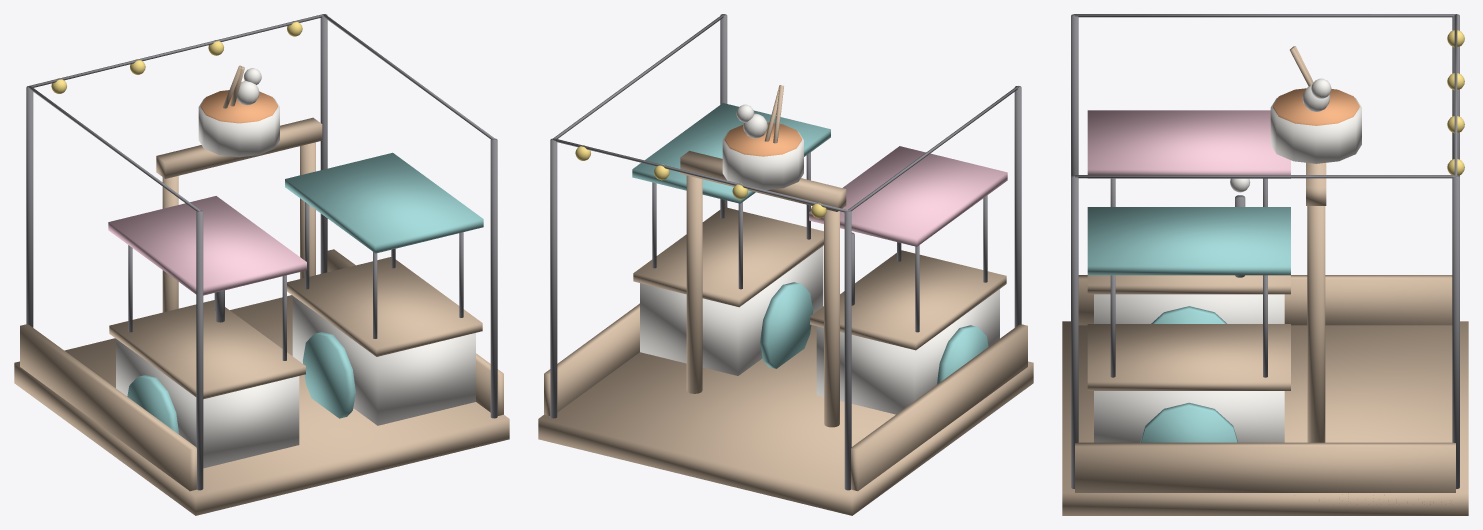
File: food_street_lv3.glb
3 views of the same model, side by side, from view 1: azimuth 30°, elevation 25°; view 2: azimuth 150°, elevation 25°; view 3: azimuth 270°, elevation 25° (orthographic). The views are drawn at different scales.
Parts seen in each view (by area): view 1: deck, cart2_canopy, cart1_canopy, cart2_table, cart1_table, cart2_body, cart1_body, fence_l, cart2_w_l, giant_bowl, arch_beam, light_post_rr (+11 smaller); view 2: deck, cart1_canopy, cart1_table, cart2_table, cart2_body, fence_l, cart1_body, cart2_canopy, fence_r, arch_pil_r, arch_pil_l, cart2_w_l (+11 smaller); view 3: deck, fence_r, cart2_canopy, cart2_table, cart1_canopy, fence_l, cart2_body, cart1_body, arch_pil_r, cart1_table, giant_bowl, cart2_w_r (+12 smaller).
Part boxes in pixels (x1,y1,x2,y2): deck: [14, 295, 509, 515]; cart2_canopy: [285, 152, 483, 253]; cart1_canopy: [108, 196, 306, 295]; cart2_table: [287, 257, 482, 356]; cart1_table: [109, 300, 305, 399]; cart2_body: [292, 296, 475, 425]; cart1_body: [116, 339, 299, 468]; fence_l: [20, 324, 196, 491]; cart2_w_l: [302, 332, 355, 418]; giant_bowl: [198, 98, 279, 157]; arch_beam: [156, 117, 322, 178]; light_post_rr: [490, 138, 497, 418]; deck: [538, 325, 1033, 515]; cart1_canopy: [809, 146, 1007, 246]; cart1_table: [810, 250, 1006, 350]; cart2_table: [633, 207, 823, 307]; cart2_body: [640, 246, 823, 375]; fence_l: [851, 324, 1027, 491]; cart1_body: [816, 289, 999, 414]; cart2_canopy: [632, 103, 830, 203]; fence_r: [544, 303, 639, 415]; arch_pil_r: [686, 175, 702, 393]; arch_pil_l: [824, 209, 839, 427]; cart2_w_l: [760, 282, 813, 368]; deck: [1062, 321, 1468, 515]; fence_r: [1075, 442, 1455, 504]; cart2_canopy: [1087, 207, 1290, 275]; cart2_table: [1087, 324, 1290, 390]; cart1_canopy: [1087, 110, 1290, 178]; fence_l: [1078, 275, 1452, 325]; cart2_body: [1094, 391, 1284, 442]; cart1_body: [1094, 294, 1284, 323]; arch_pil_r: [1307, 206, 1325, 442]; cart1_table: [1087, 275, 1290, 294]; giant_bowl: [1270, 97, 1361, 163]; cart2_w_r: [1140, 402, 1237, 442].
Size of the model in its own units: 1.6 by 1.64 by 1.6.
